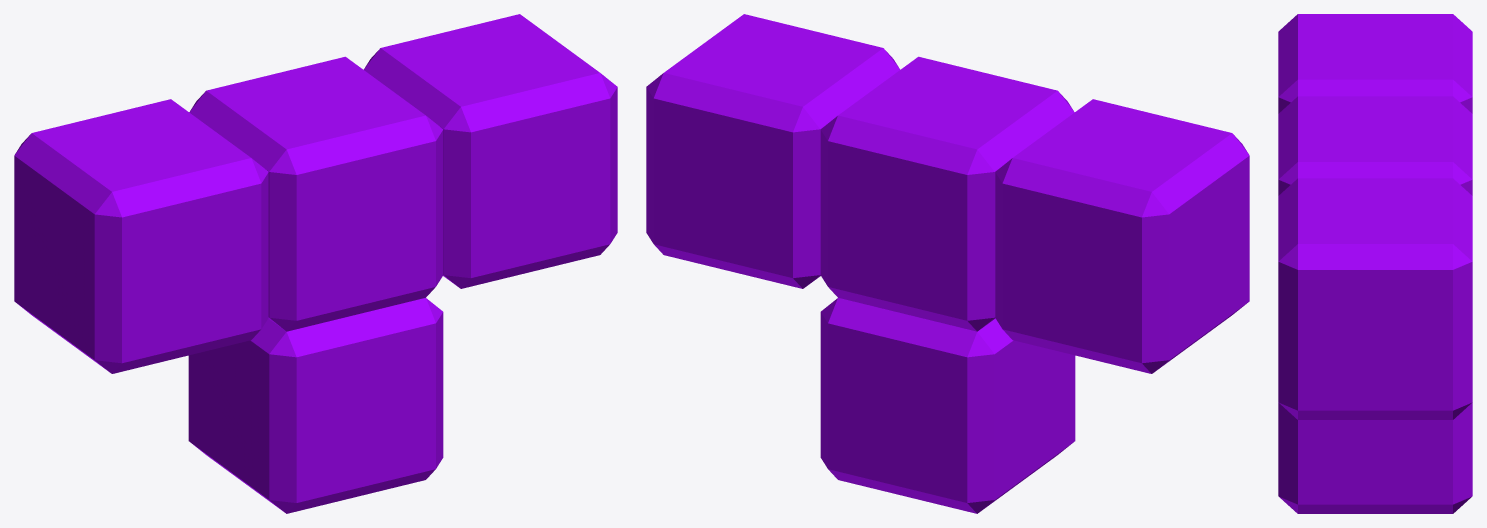
File: Tetris_T.fbx
3 views of the same model, side by side, from view 1: azimuth 30°, elevation 25°; view 2: azimuth 150°, elevation 25°; view 3: azimuth 270°, elevation 25° (orthographic). The views are drawn at different scales.
Parts seen in each view (by area): view 1: Box100; view 2: Box100; view 3: Box100.
Part boxes in pixels (bbox=[...]): Box100: bbox=[14, 14, 617, 513]; Box100: bbox=[646, 14, 1249, 513]; Box100: bbox=[1278, 14, 1472, 513].
Bounding box in the file's own units: 300 × 200 × 100.
